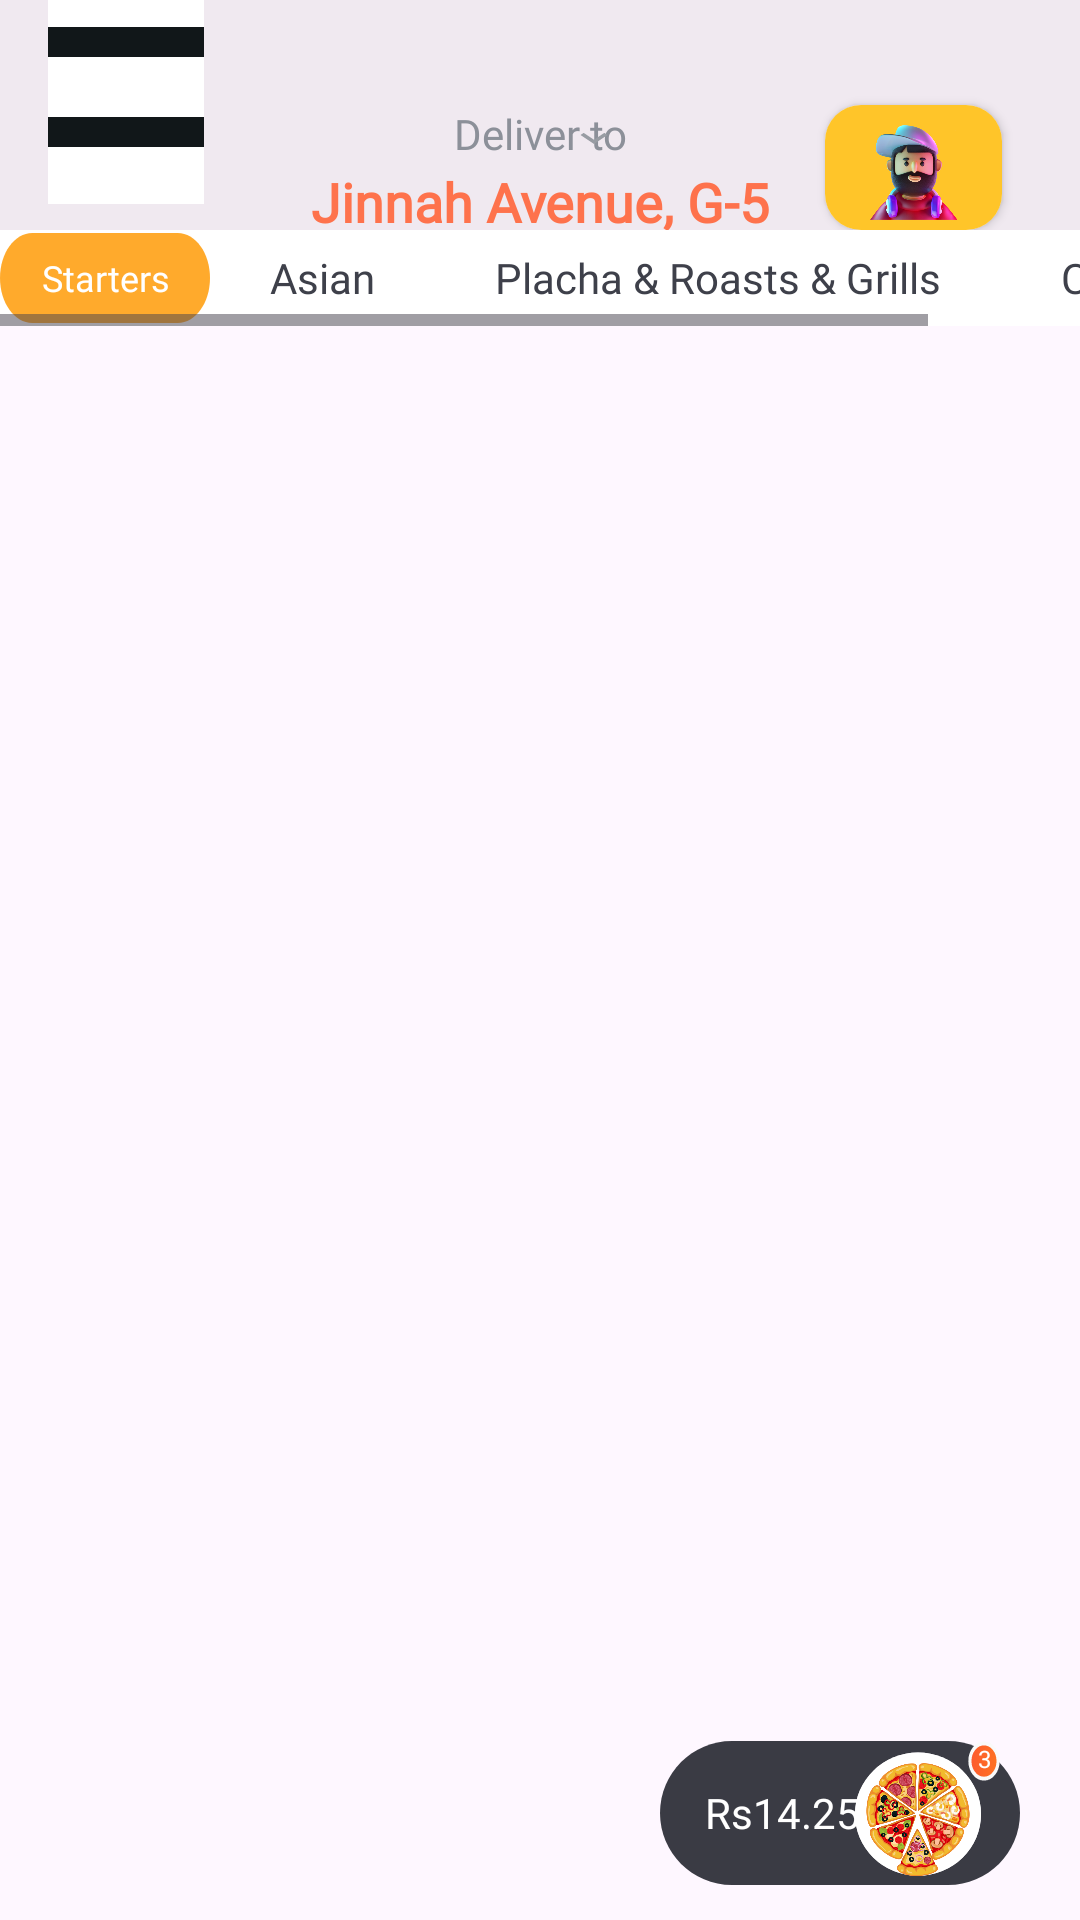

Icon click points for this 1080×1920 phone screenshot, format (x,y):
floating pizza: (918,1813)
profile: (913,167)
sidebar: (126,87)
